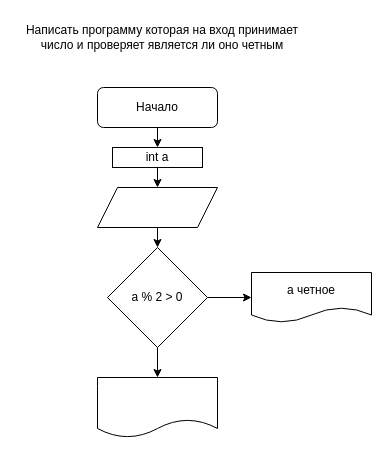
This 389x455 diagram has some shape labels left out. The shapes that lost their labels are listed below. From the top down, each one's centre as x and y in pixels, then its label:
At pixel 157 207: "Введите число".
At pixel 157 407: "а нечетное".
